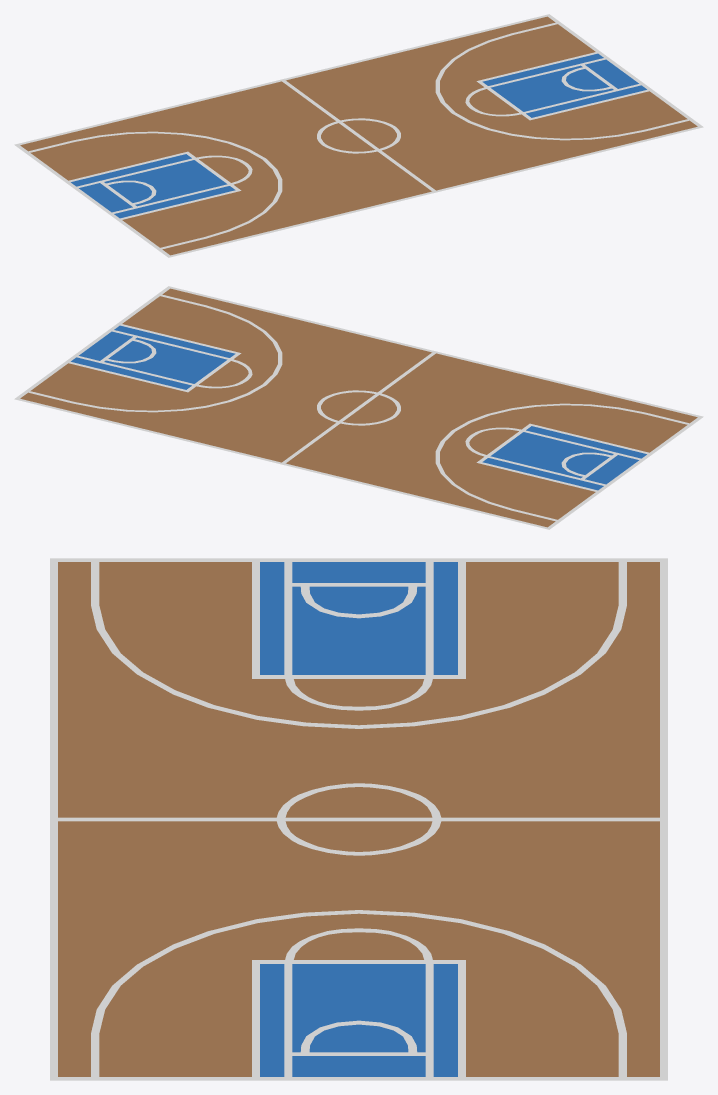
Rendered from M_BasketballCourt01.fbx.
3 views of the same model, one above another, from view 1: azimuth 30°, elevation 25°; view 2: azimuth 150°, elevation 25°; view 3: azimuth 270°, elevation 25° (orthographic). The views are drawn at different scales.
Parts seen in each view (by area): view 1: M_BasketballCourt01; view 2: M_BasketballCourt01; view 3: M_BasketballCourt01.
Boxes of the visible parts, x1,y1,x2,y2 form: M_BasketballCourt01: [14, 14, 703, 257]; M_BasketballCourt01: [14, 286, 703, 529]; M_BasketballCourt01: [50, 558, 667, 1080].
Size of the model in its own units: 2800 by 1400 by 6.93e-21.
